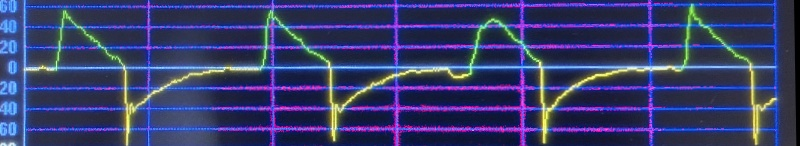normal_flow: (18, 6, 771, 146)
